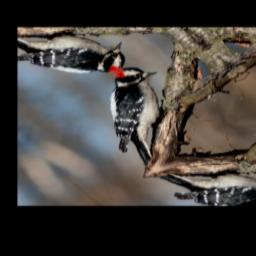Woodpecker: (66, 56, 219, 170)
